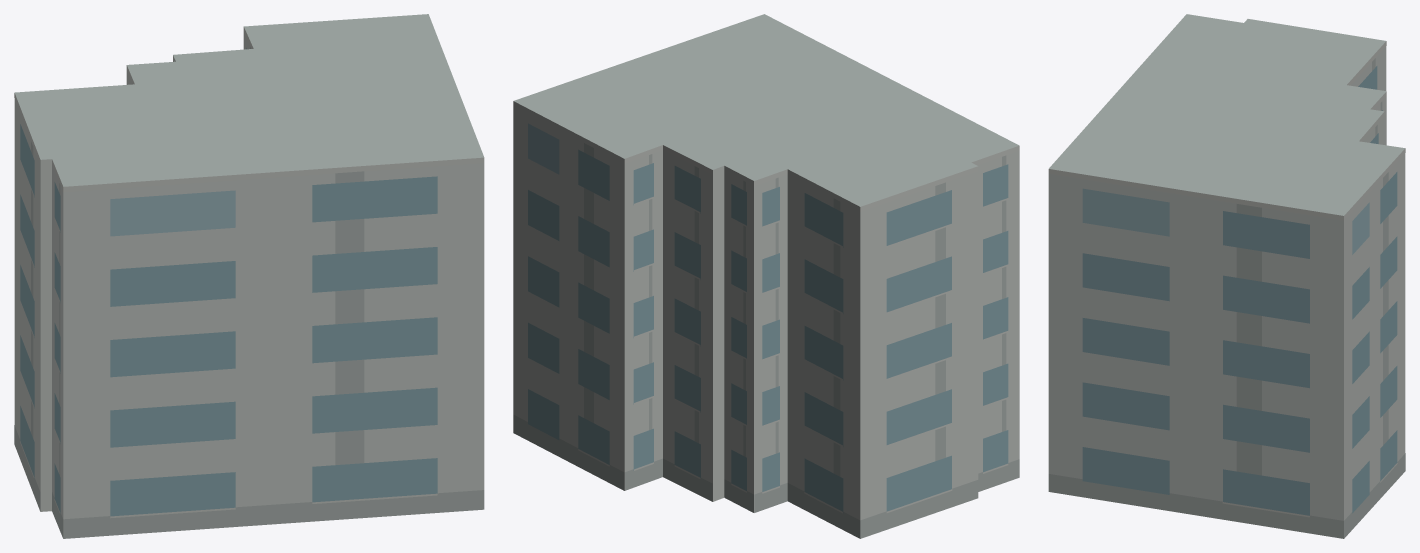
The model's file is survey-upis-32647475.glb.
3 views of the same model, side by side, from view 1: azimuth 30°, elevation 25°; view 2: azimuth 150°, elevation 25°; view 3: azimuth 270°, elevation 25° (orthographic). The views are drawn at different scales.
Visible parts, largest first — view 1: survey-upis-32647475.tmp; view 2: survey-upis-32647475.tmp; view 3: survey-upis-32647475.tmp.
Boxes of the visible parts, x1,y1,x2,y2 form: survey-upis-32647475.tmp: [14, 14, 484, 538]; survey-upis-32647475.tmp: [513, 14, 1019, 538]; survey-upis-32647475.tmp: [1048, 14, 1405, 538].
Bounding box in the file's own units: 21.33 × 15.9 × 15.93.
